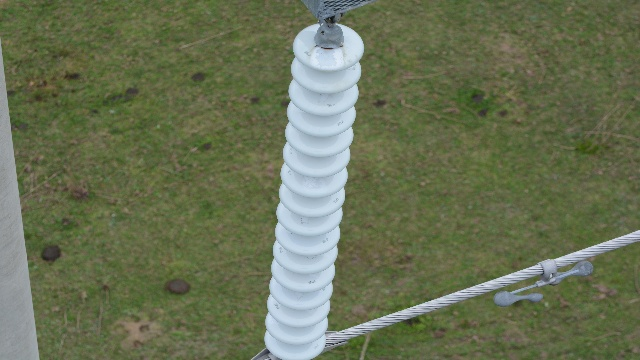insulator_unspecified: (261, 23, 365, 359)
pollution_flashover_local: (309, 44, 345, 71), (301, 177, 326, 189), (299, 214, 310, 226), (294, 290, 304, 300)
